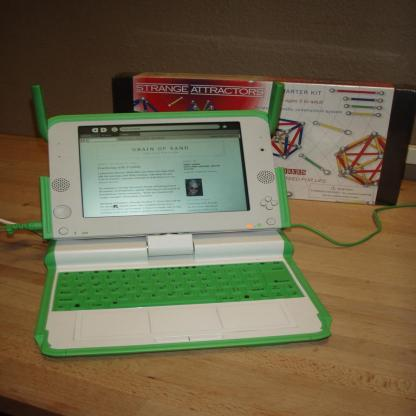board: (32, 81, 332, 355)
